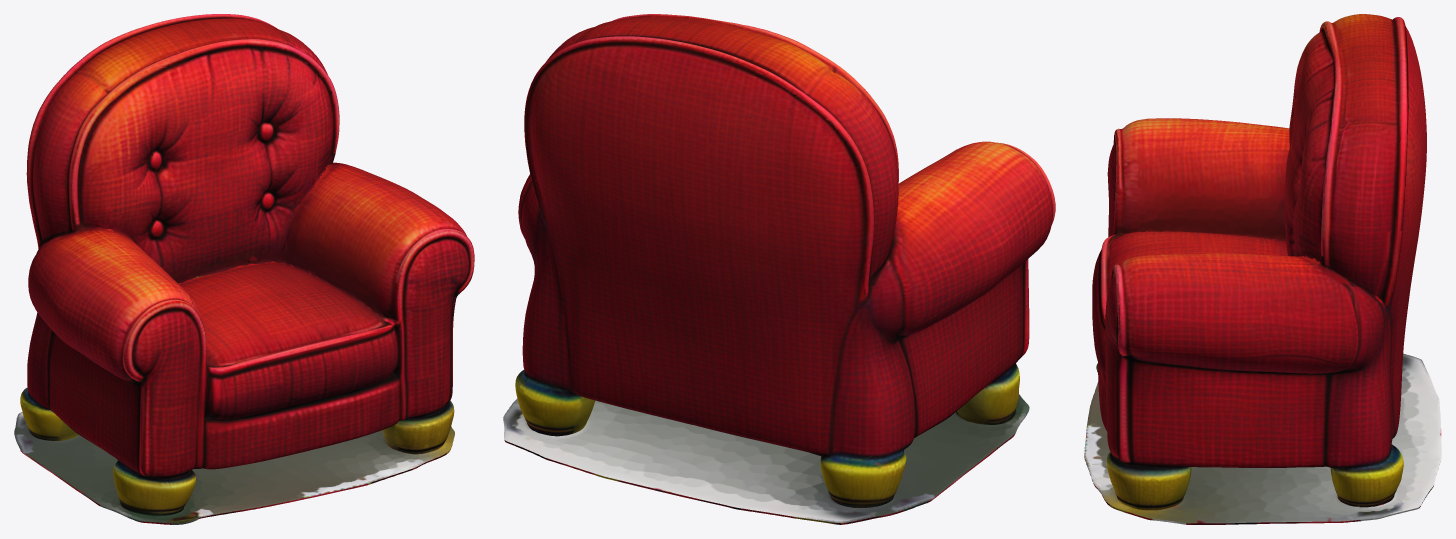
File: Furniture_armchair.glb
3 renders of one model, left to right at view 1: azimuth 30°, elevation 25°; view 2: azimuth 150°, elevation 25°; view 3: azimuth 270°, elevation 25°, orthographic. The views are drawn at different scales.
Parts seen in each view (by area): view 1: tmpgjaegdt5.ply; view 2: tmpgjaegdt5.ply; view 3: tmpgjaegdt5.ply.
Boxes of the visible parts, box(x1,y1,x2,y2) form: tmpgjaegdt5.ply: box(14, 14, 474, 524); tmpgjaegdt5.ply: box(503, 14, 1055, 524); tmpgjaegdt5.ply: box(1084, 14, 1441, 524).
Size of the model in its own units: 2 by 1.91 by 1.58.
1 material, 1 textured.
